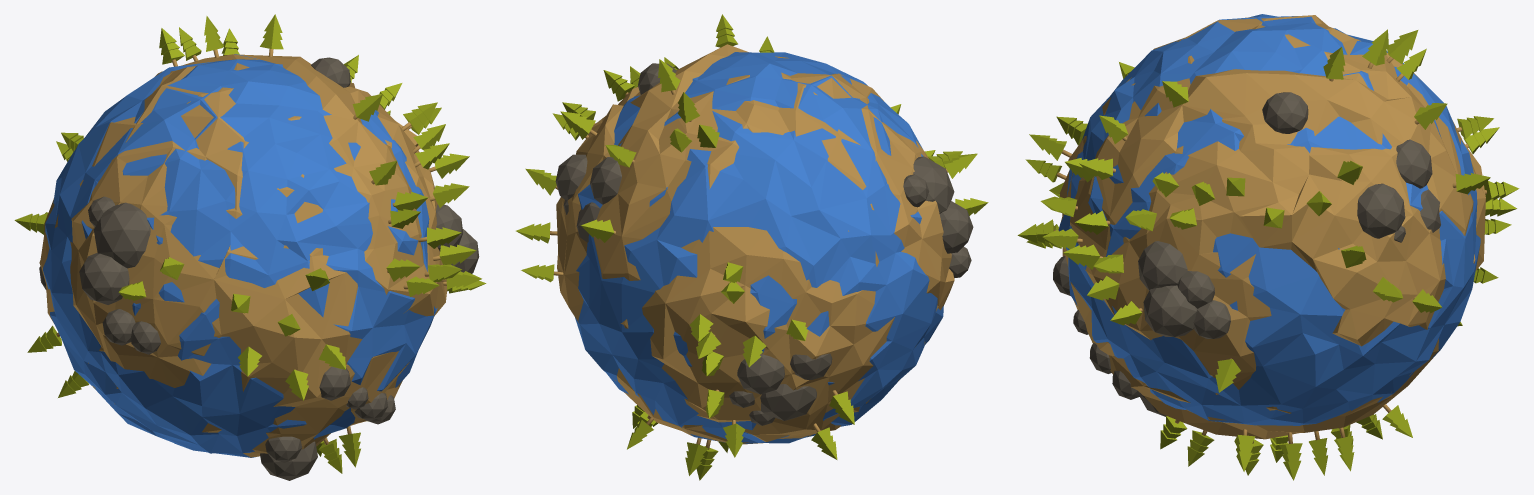
The model's file is PLANET_2_OPT.fbx.
3 renders of one model, left to right at view 1: azimuth 30°, elevation 25°; view 2: azimuth 150°, elevation 25°; view 3: azimuth 270°, elevation 25°, orthographic. The views are drawn at different scales.
Visible parts, largest first — view 1: Null_1; view 2: Null_1; view 3: Null_1.
Part boxes in pixels (x1,y1,x2,y2): Null_1: [14, 14, 486, 480]; Null_1: [516, 14, 988, 480]; Null_1: [1017, 14, 1519, 480].
Size of the model in its own units: 220 by 226 by 235.
